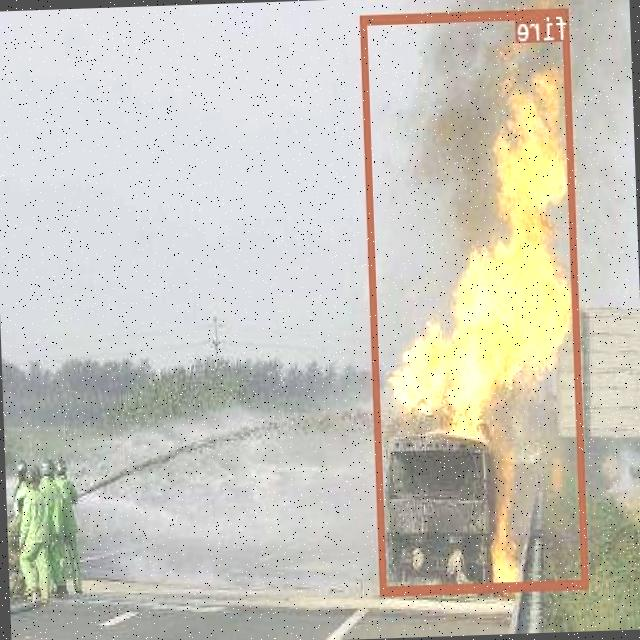fire: (362, 6, 588, 593)
